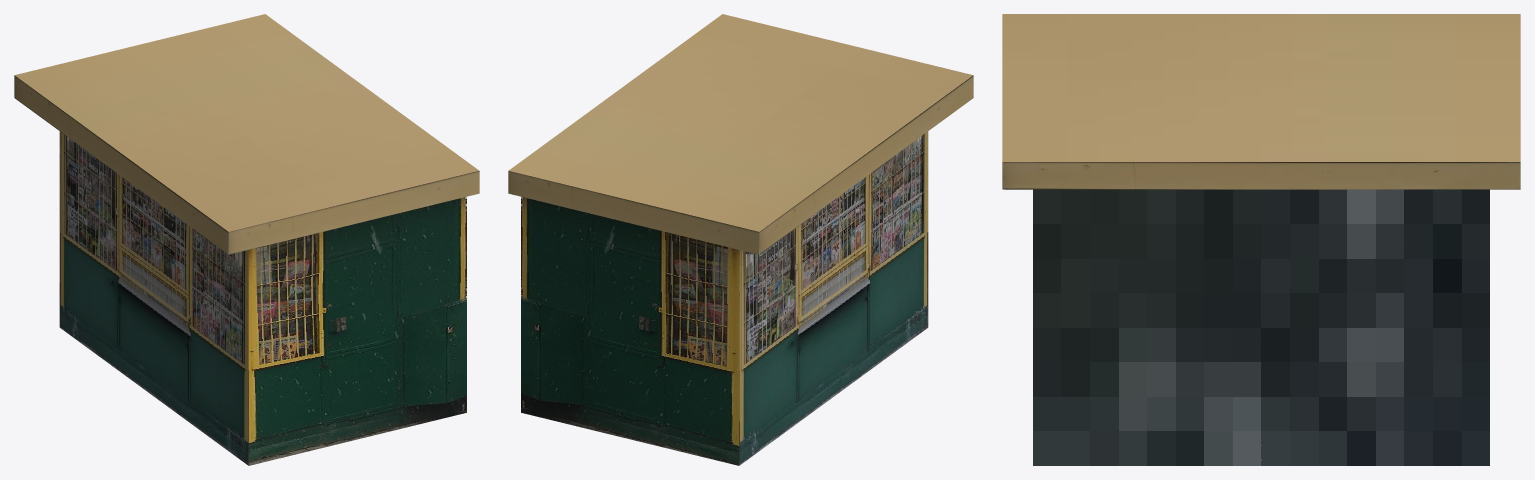
Rendered from kiosk.gltf.
The picture shows the model from 3 angles, left to right: view 1: azimuth 30°, elevation 25°; view 2: azimuth 150°, elevation 25°; view 3: azimuth 270°, elevation 25°; orthographic projection. The views are drawn at different scales.
Parts seen in each view (by area): view 1: mesh (×2); view 2: mesh (×2); view 3: mesh (×2).
Part boxes in pixels (x1,y1,x2,y2): mesh (×2): [14, 14, 479, 465]; mesh (×2): [508, 14, 973, 465]; mesh (×2): [1002, 14, 1520, 465].
Size of the model in its own units: 0.2875 by 0.275 by 0.425.
2 materials, 2 textured.
